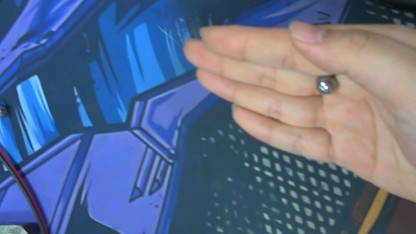ironball: (311, 75, 334, 93)
